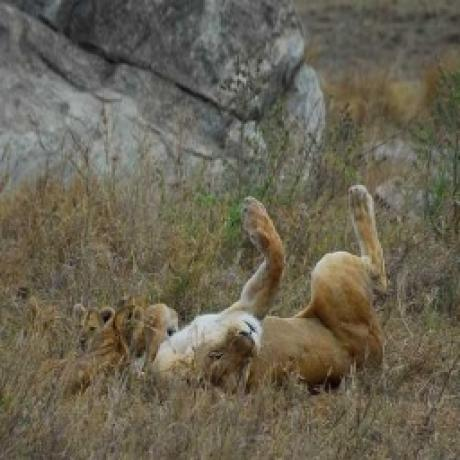Lion: (155, 181, 392, 400), (113, 296, 177, 365), (71, 302, 116, 352)
